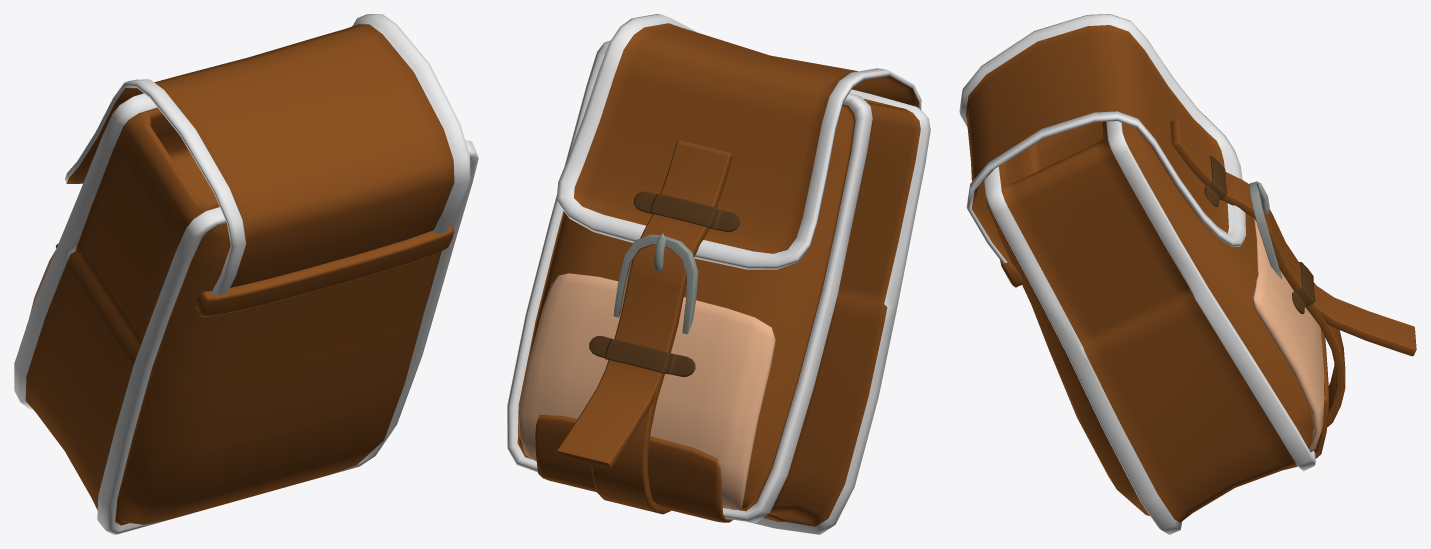
Rendered from EQ_Bag_Small.fbx.
3 views of the same model, side by side, from view 1: azimuth 30°, elevation 25°; view 2: azimuth 150°, elevation 25°; view 3: azimuth 270°, elevation 25° (orthographic). The views are drawn at different scales.
Visible parts, largest first — view 1: EQ_Bag_Small.001; view 2: EQ_Bag_Small.001; view 3: EQ_Bag_Small.001.
Part boxes in pixels (x1=…): EQ_Bag_Small.001: x1=14, y1=14, x2=478, y2=534; EQ_Bag_Small.001: x1=507, y1=14, x2=930, y2=534; EQ_Bag_Small.001: x1=959, y1=14, x2=1416, y2=534.
Bounding box in the file's own units: 17.33 × 25.57 × 25.14.
